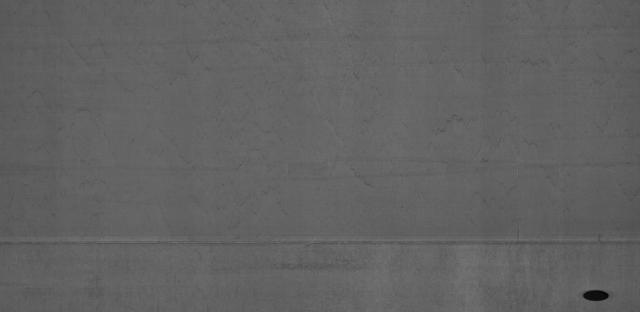punching_hole: (574, 282, 614, 306)
silk_spot: (11, 5, 626, 196)
welding_line: (2, 230, 640, 252)
